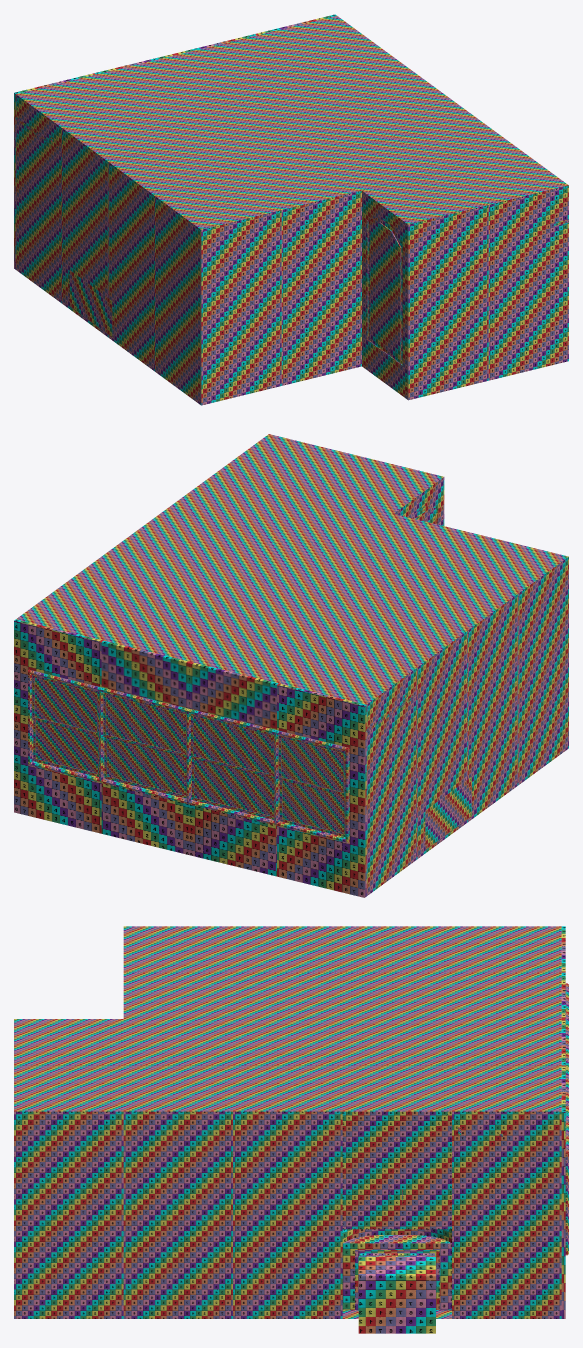
File: WitchHut.fbx
3 views of the same model, one above another, from view 1: azimuth 30°, elevation 25°; view 2: azimuth 150°, elevation 25°; view 3: azimuth 270°, elevation 25° (orthographic). The views are drawn at different scales.
Parts seen in each view (by area): view 1: pCube933, Wall_6, Wall_7, Wall_8, Wall_5, Wall_9, polySurface332, Wall_12, Wall_10, Wall_11, Cabinet_3, Side_Windowed_Frame_Wall2; view 2: pCube933, Side_Windowed_Frame_Wall2, Side_Windowed_Frame_Wall, Windowed_Frame_Wall, Windowed_Frame_Wall_2, Wall_12, Wall_9, Wall_10, Wall_11, Top_Window_Panel_3, Top_Window_Panel_2, Bottom_Window_Panel_3 (+7 smaller); view 3: pCube933, Fireplace, Wall_4, Wall_2, Wall_3, Wall, Side_Windowed_Frame_Wall.
Part boxes in pixels (bbox=[...]): pCube933: bbox=[16, 16, 568, 229]; Wall_6: bbox=[408, 205, 488, 400]; Wall_7: bbox=[281, 190, 361, 385]; Wall_8: bbox=[201, 210, 281, 405]; Wall_5: bbox=[488, 185, 568, 380]; Wall_9: bbox=[155, 196, 201, 405]; polySurface332: bbox=[362, 191, 408, 399]; Wall_12: bbox=[15, 94, 61, 303]; Wall_10: bbox=[108, 162, 154, 371]; Wall_11: bbox=[62, 128, 108, 337]; Cabinet_3: bbox=[69, 270, 112, 336]; Side_Windowed_Frame_Wall2: bbox=[14, 73, 95, 269]; pCube933: bbox=[16, 434, 568, 704]; Side_Windowed_Frame_Wall2: bbox=[275, 683, 366, 897]; Side_Windowed_Frame_Wall: bbox=[14, 619, 102, 833]; Windowed_Frame_Wall: bbox=[100, 640, 190, 854]; Windowed_Frame_Wall_2: bbox=[187, 662, 278, 876]; Wall_12: bbox=[366, 668, 417, 895]; Wall_9: bbox=[518, 557, 568, 784]; Wall_10: bbox=[467, 594, 518, 821]; Wall_11: bbox=[417, 631, 467, 858]; Top_Window_Panel_3: bbox=[191, 713, 274, 778]; Top_Window_Panel_2: bbox=[103, 692, 186, 756]; Bottom_Window_Panel_3: bbox=[192, 758, 274, 819]; pCube933: bbox=[14, 926, 561, 1111]; Fireplace: bbox=[342, 1111, 451, 1333]; Wall_4: bbox=[14, 1111, 123, 1318]; Wall_2: bbox=[233, 1111, 342, 1318]; Wall_3: bbox=[123, 1111, 232, 1318]; Wall: bbox=[452, 1111, 561, 1318]; Side_Windowed_Frame_Wall: bbox=[561, 1065, 568, 1318].
Bounding box in the file's own units: 5811 × 2718 × 6588.
